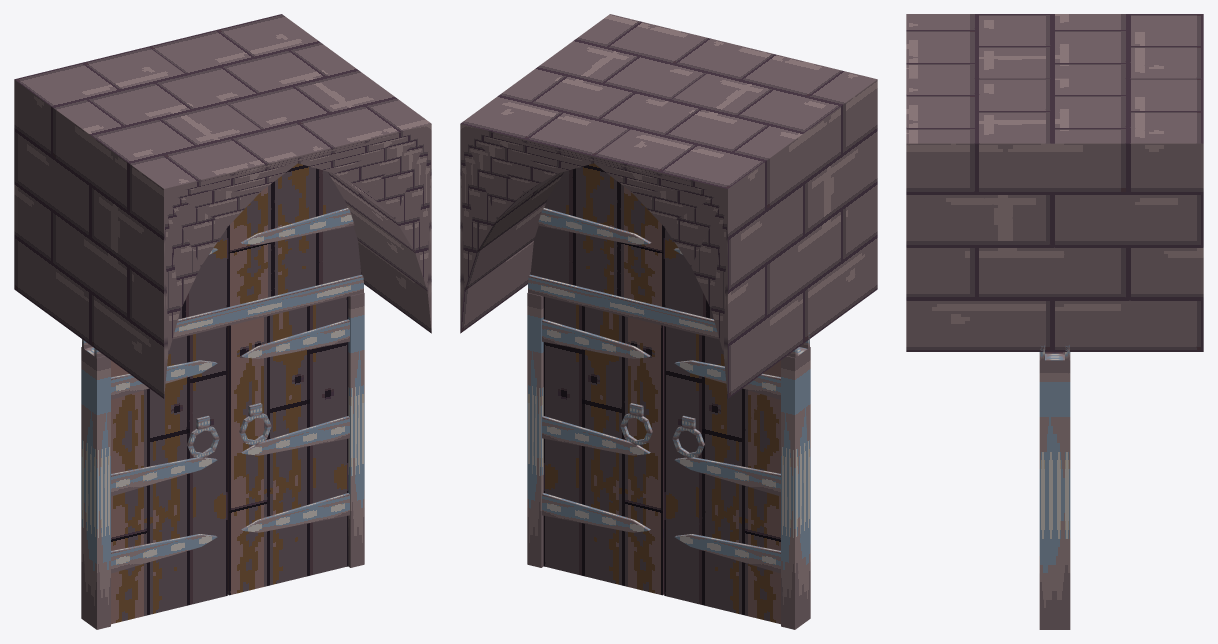
Rendered from door_normal.glb.
3 views of the same model, side by side, from view 1: azimuth 30°, elevation 25°; view 2: azimuth 150°, elevation 25°; view 3: azimuth 270°, elevation 25° (orthographic).
Parts seen in each view (by area): view 1: portal, leaf_a, leaf_b; view 2: portal, leaf_a, leaf_b; view 3: portal.
Part boxes in pixels (<box>): portal: <box>14,14,431,629</box>; leaf_a: <box>227,296,349,595</box>; leaf_b: <box>111,326,227,624</box>; portal: <box>460,14,877,629</box>; leaf_a: <box>542,296,664,595</box>; leaf_b: <box>664,326,780,624</box>; portal: <box>906,14,1203,629</box>.
Bounding box in the file's own units: 2 × 3.5 × 1.94.
Materials: 1 (1 with a texture image).
